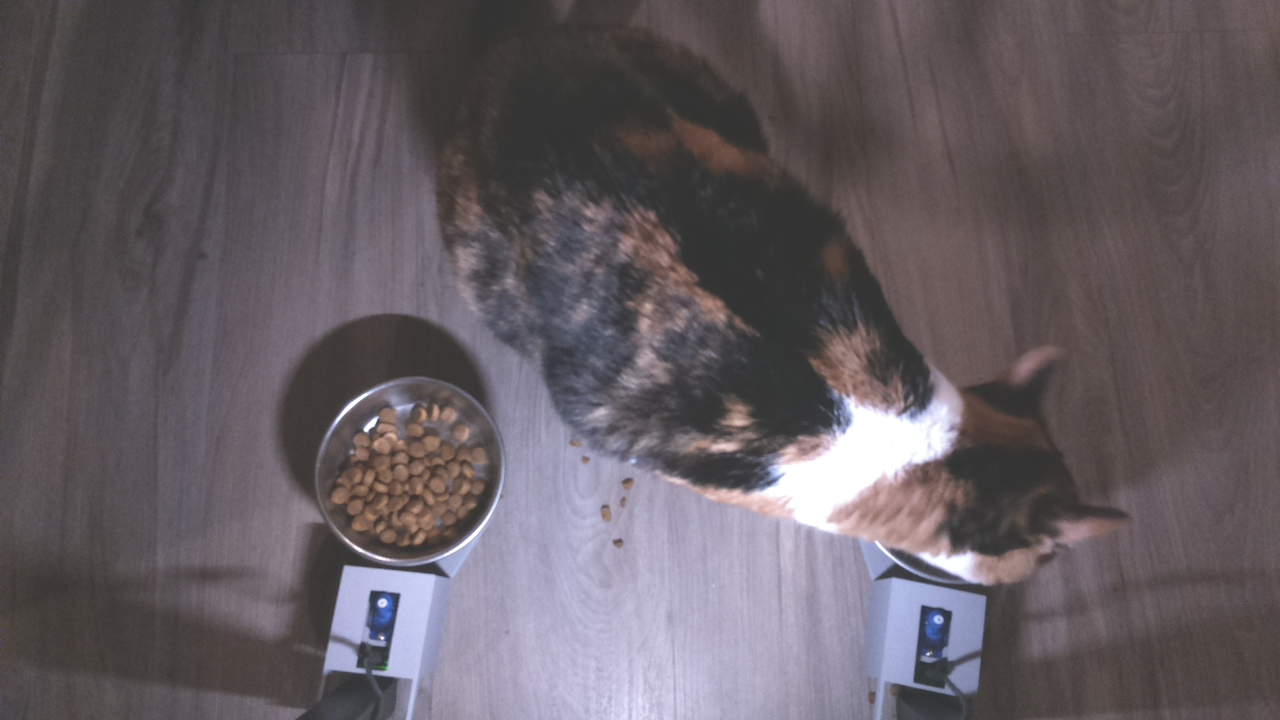bella_eating: (841, 315, 1130, 601)
open_bowl: (312, 372, 511, 570)
